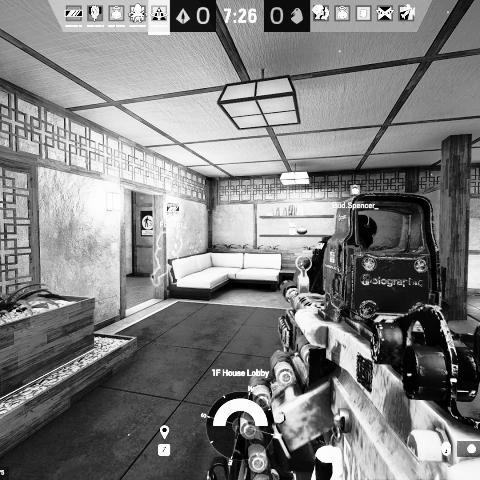Character: (293, 212, 379, 296)
Friend_label: (332, 184, 379, 211), (159, 202, 188, 230)
Head: (357, 213, 379, 249)
